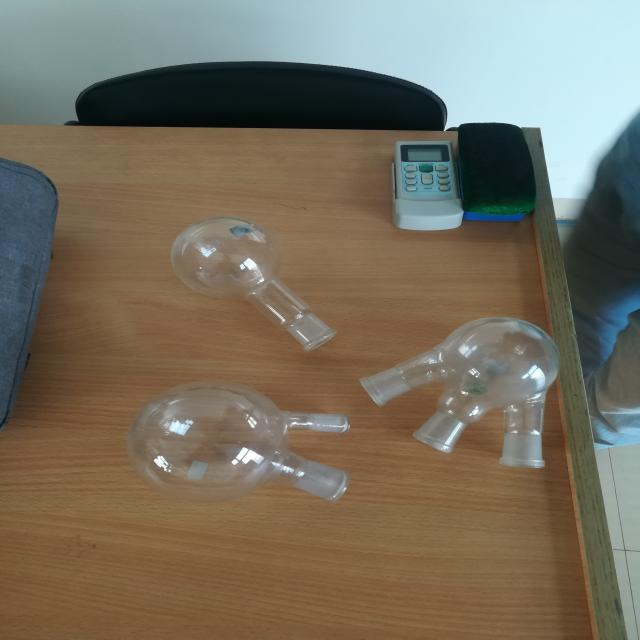Round_Bottom_Flask_Borosilicate_Glass_1_Neck: (162, 195, 349, 363)
Round_Bottom_Flask_Borosilicate_Glass_2_Neck: (101, 370, 375, 533)
Round_Bottom_Flask_Borosilicate_Glass_3_Neck: (357, 288, 583, 494)
